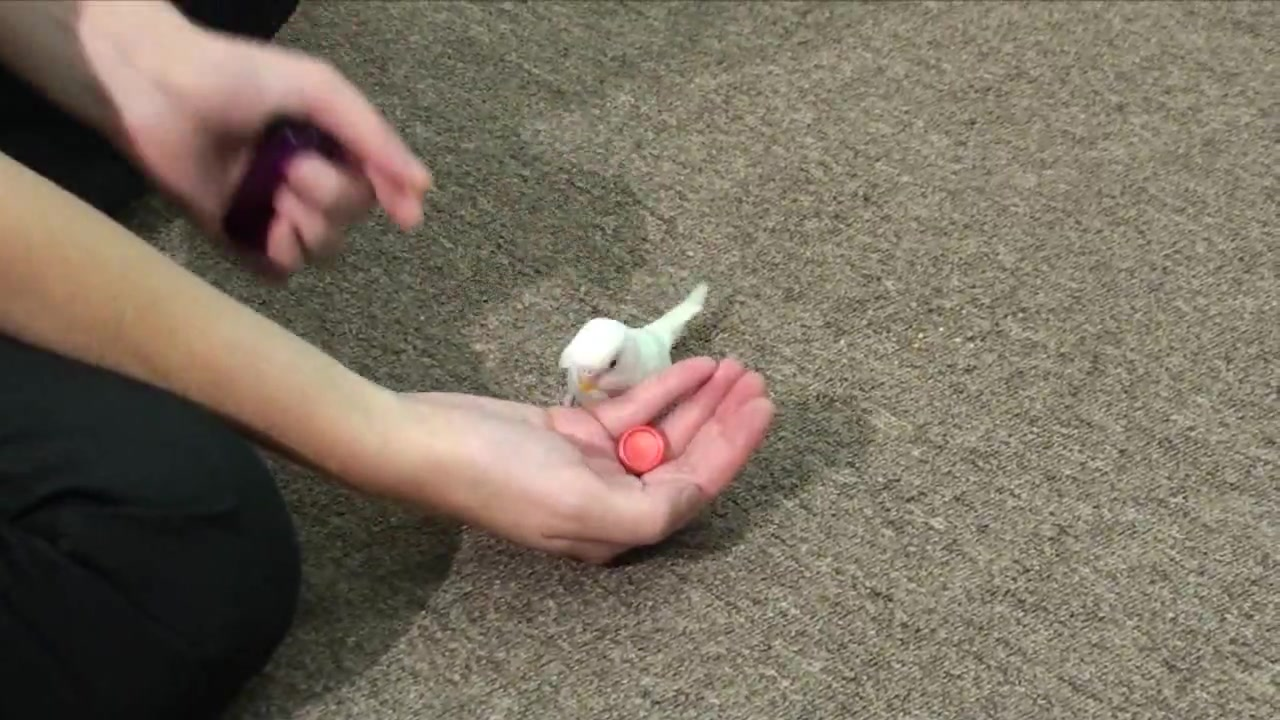bird: (560, 282, 710, 409)
